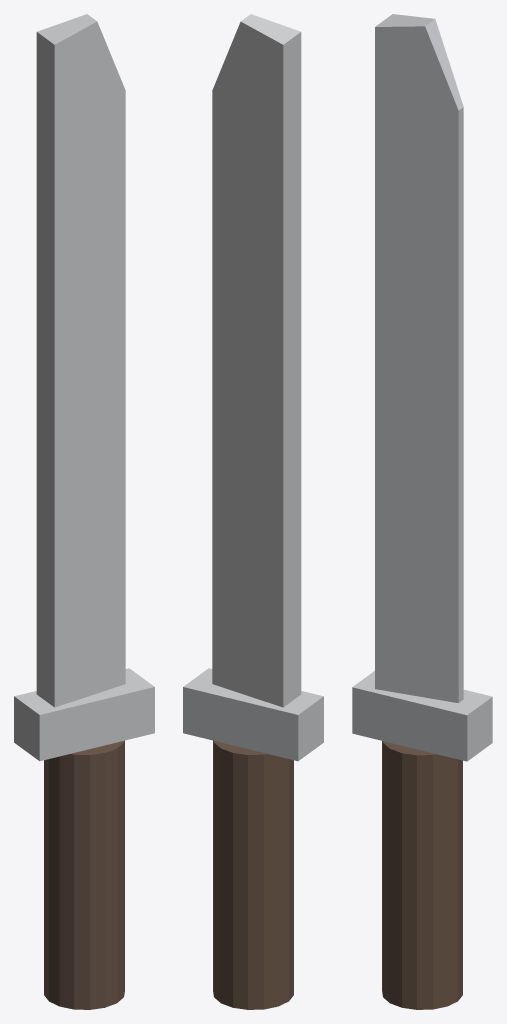
The model's file is SM_Knife.fbx.
3 views of the same model, side by side, from view 1: azimuth 30°, elevation 25°; view 2: azimuth 150°, elevation 25°; view 3: azimuth 330°, elevation 25° (orthographic).
Visible parts, largest first — view 1: SM_Knife; view 2: SM_Knife; view 3: SM_Knife.
Part boxes in pixels (x1,y1,x2,y2): SM_Knife: (14, 14, 154, 1009); SM_Knife: (183, 14, 323, 1009); SM_Knife: (352, 14, 492, 1009).
Bounding box in the file's own units: 0.052 × 0.42 × 0.032.
